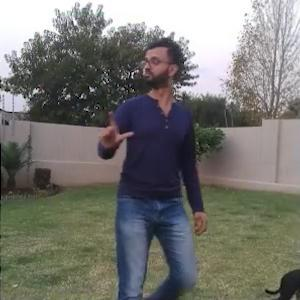land_hand: (92, 103, 140, 157)
